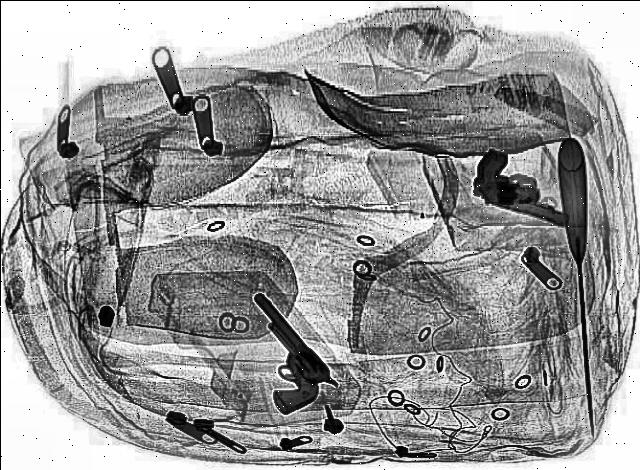Gun: (197, 290, 349, 414), (457, 146, 593, 222)
Knife: (556, 135, 608, 435)
